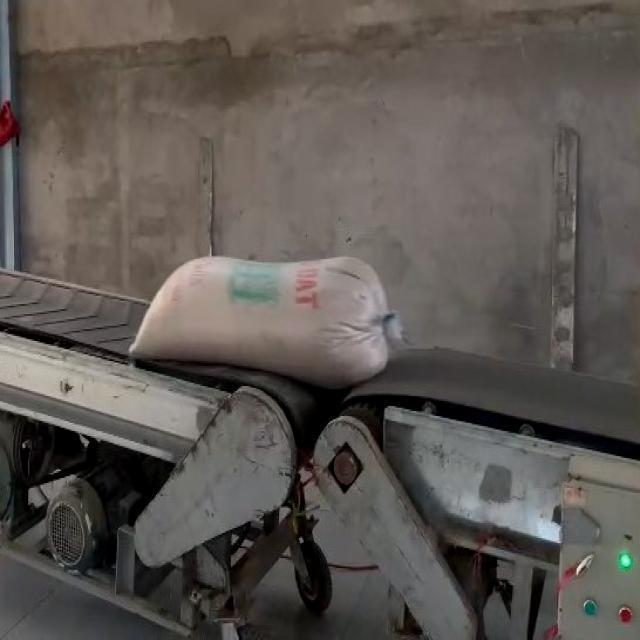gunny_bag: (129, 257, 397, 389)
